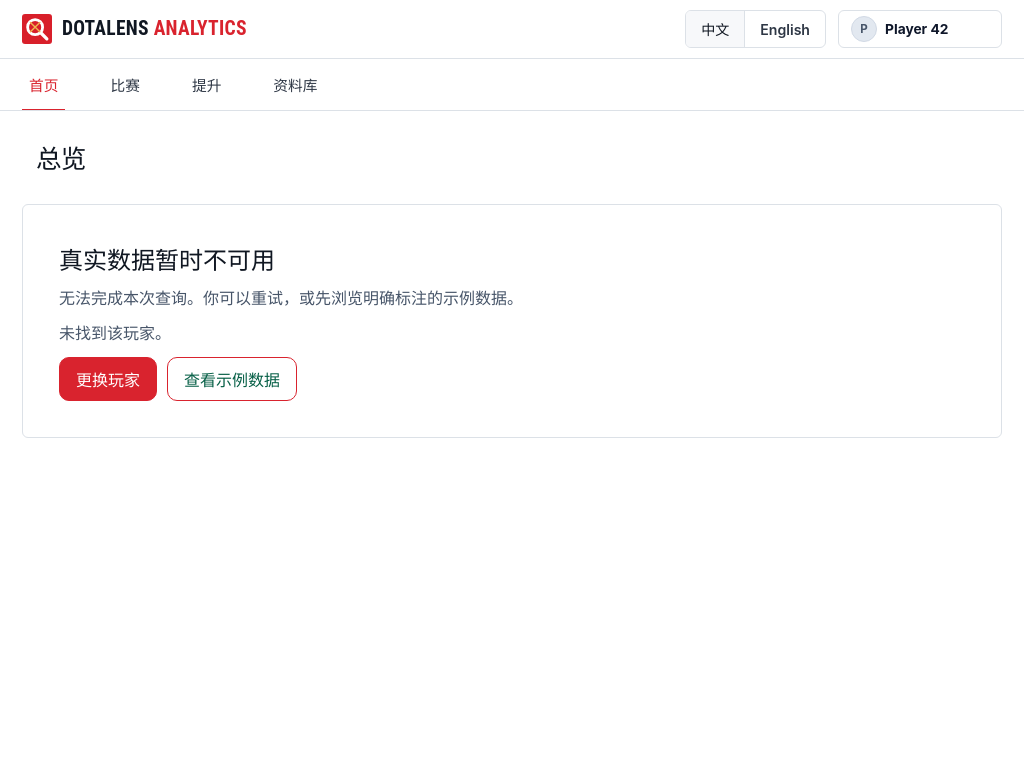
it: App smoke flow › routes a non-retryable player error to account switching
Expected: the number of messages is 1, [22,204,1002,438]
Click the button "更换玩家".
click(108, 379)  # box [59,357,157,401]
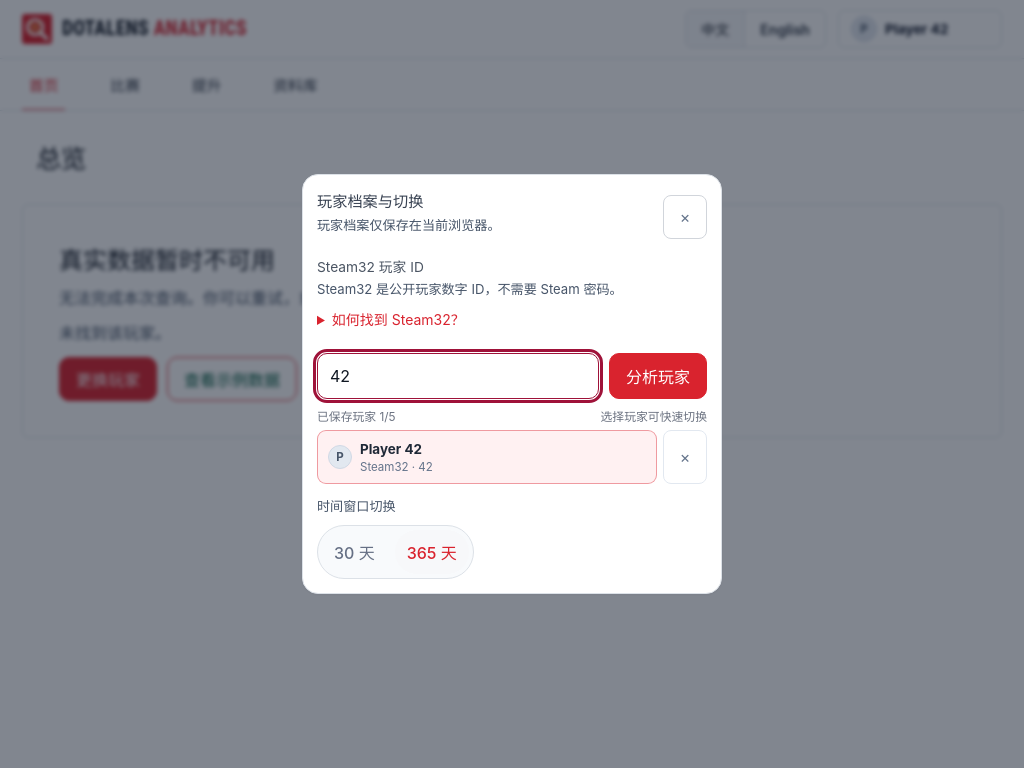
Result: the dialog "玩家档案与切换" is shown at [302,174,722,594]
